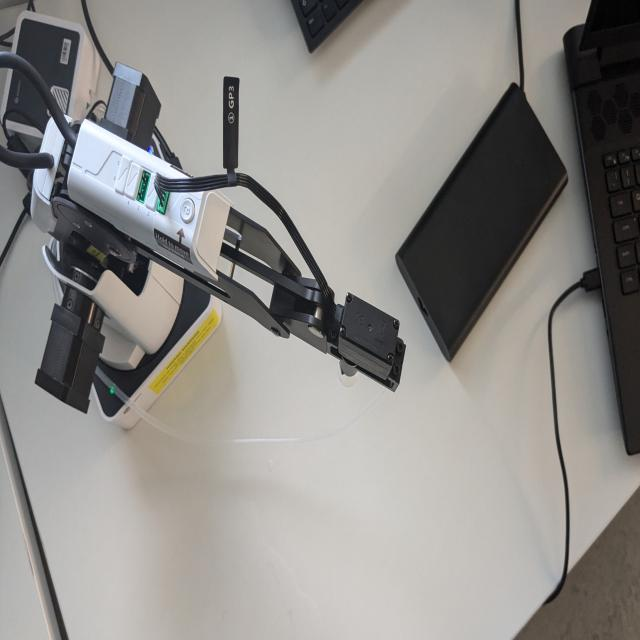Robot-end-effector-HF8z: (333, 284, 408, 400)
